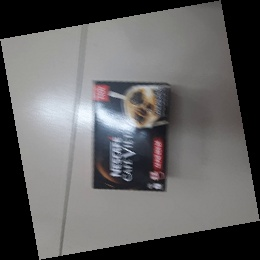CF Viet: (90, 80, 170, 195)
